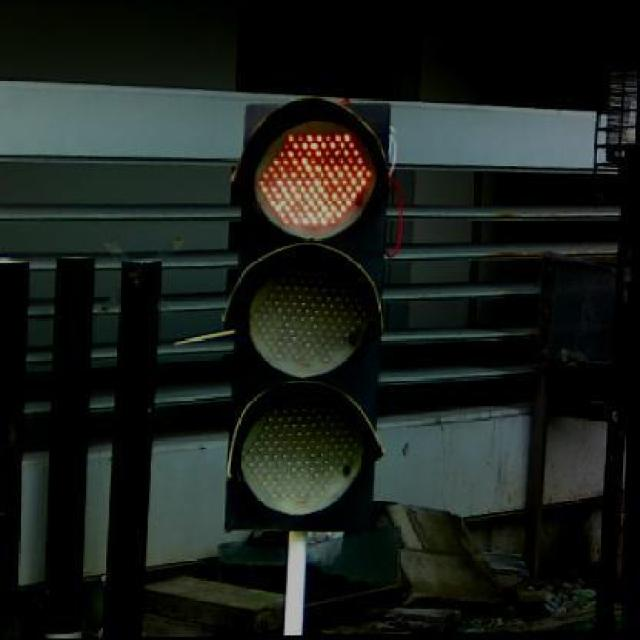Traffic Light -Red-: (209, 91, 402, 535)
